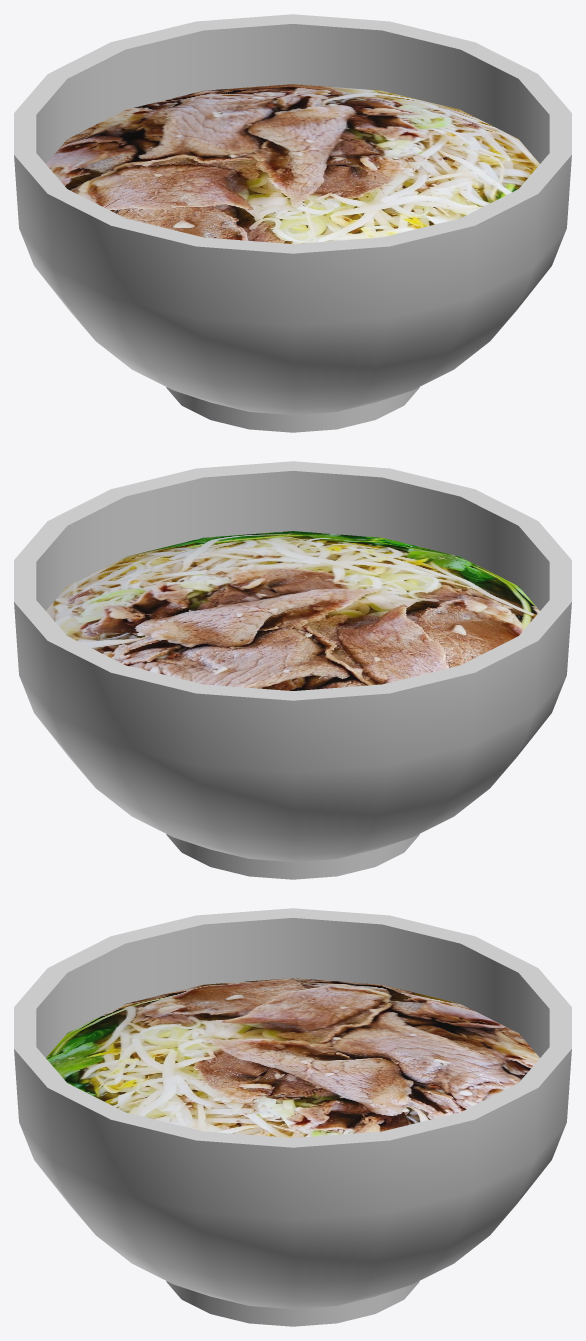
The model's file is nudle01.FBX.
3 renders of one model, top to bottom at view 1: azimuth 30°, elevation 25°; view 2: azimuth 150°, elevation 25°; view 3: azimuth 270°, elevation 25°, orthographic.
Visible parts, largest first — view 1: 장수면; view 2: 장수면; view 3: 장수면.
Part boxes in pixels (box(x1,y1,x2,y2)): 장수면: box(14, 14, 571, 432); 장수면: box(14, 461, 571, 879); 장수면: box(14, 908, 571, 1326).
Bounding box in the file's own units: 29.97 × 14.26 × 29.51.
